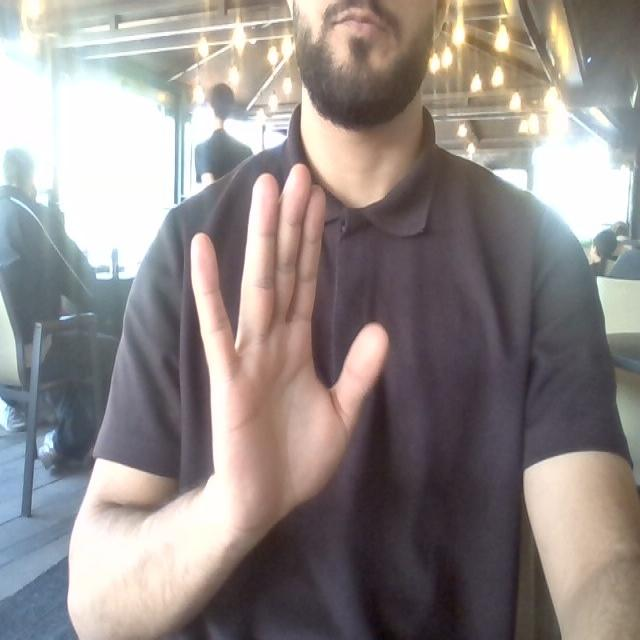Hand: (191, 166, 387, 533)
